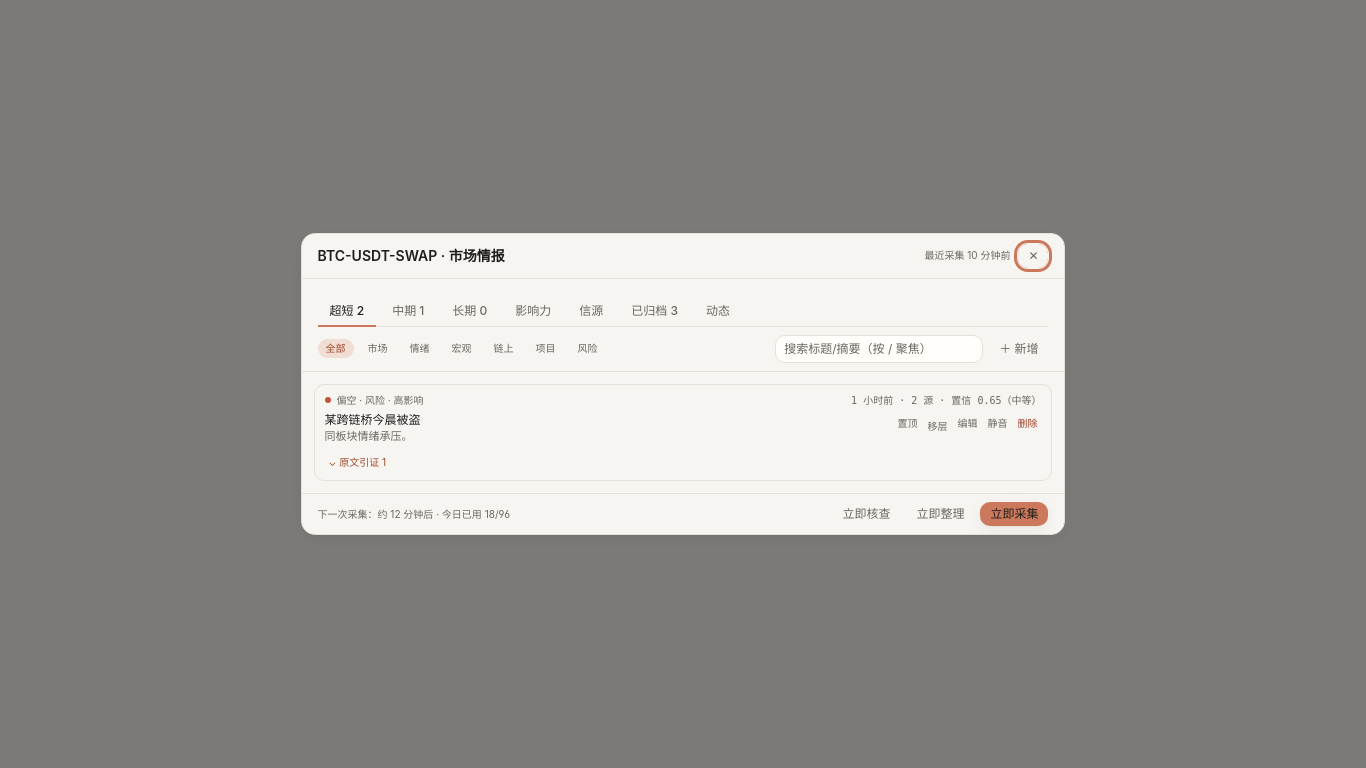
Test: IntelModal › 证据只在展开时取一次；收起再展开**不重发**
Check: the element with test id "intel-list" is shown, box [302, 372, 1064, 493]
Click the button with test id "intel-evidence-trigger".
click(357, 463)  # box [324, 453, 390, 472]
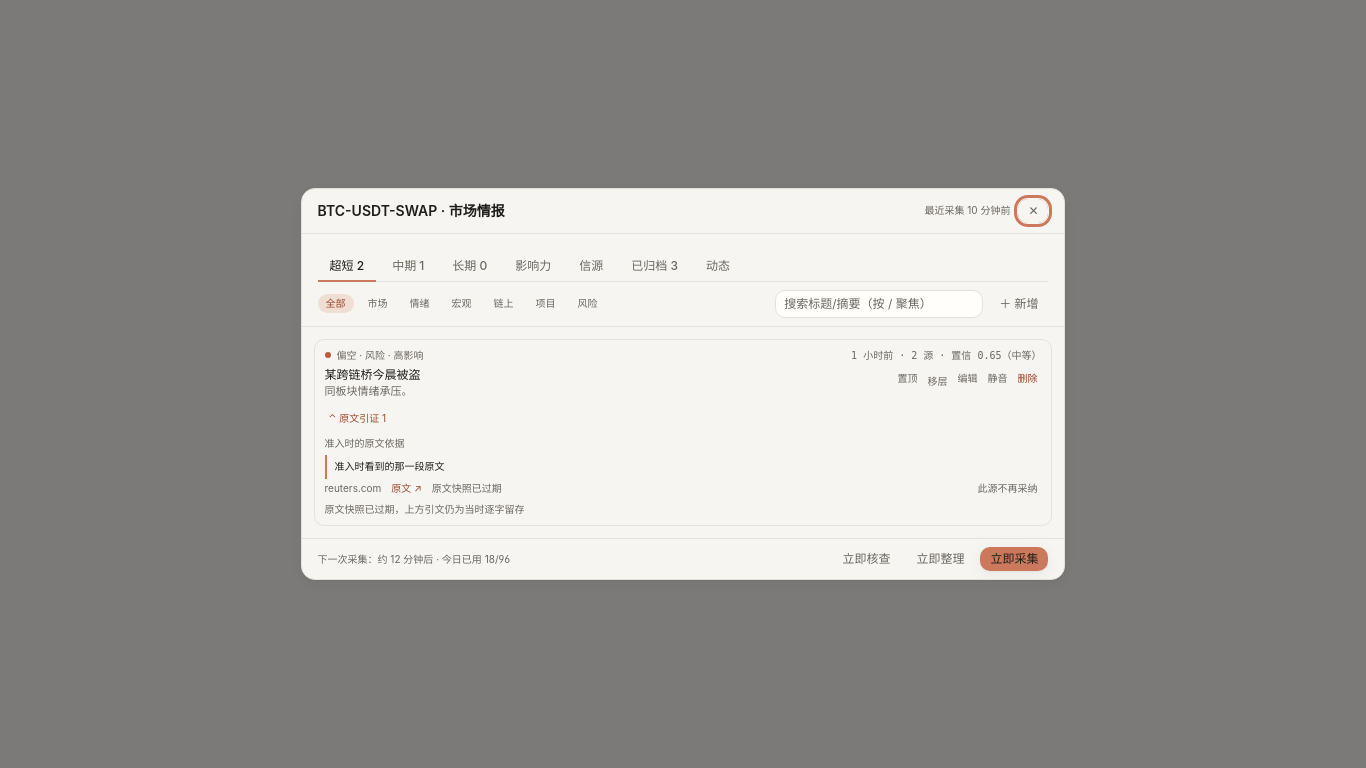
Check: the text "准入时看到的那一段原文" is shown, box [324, 455, 1042, 479]
Click the button with test id "intel-evidence-trigger".
click(357, 418)  # box [324, 409, 390, 428]
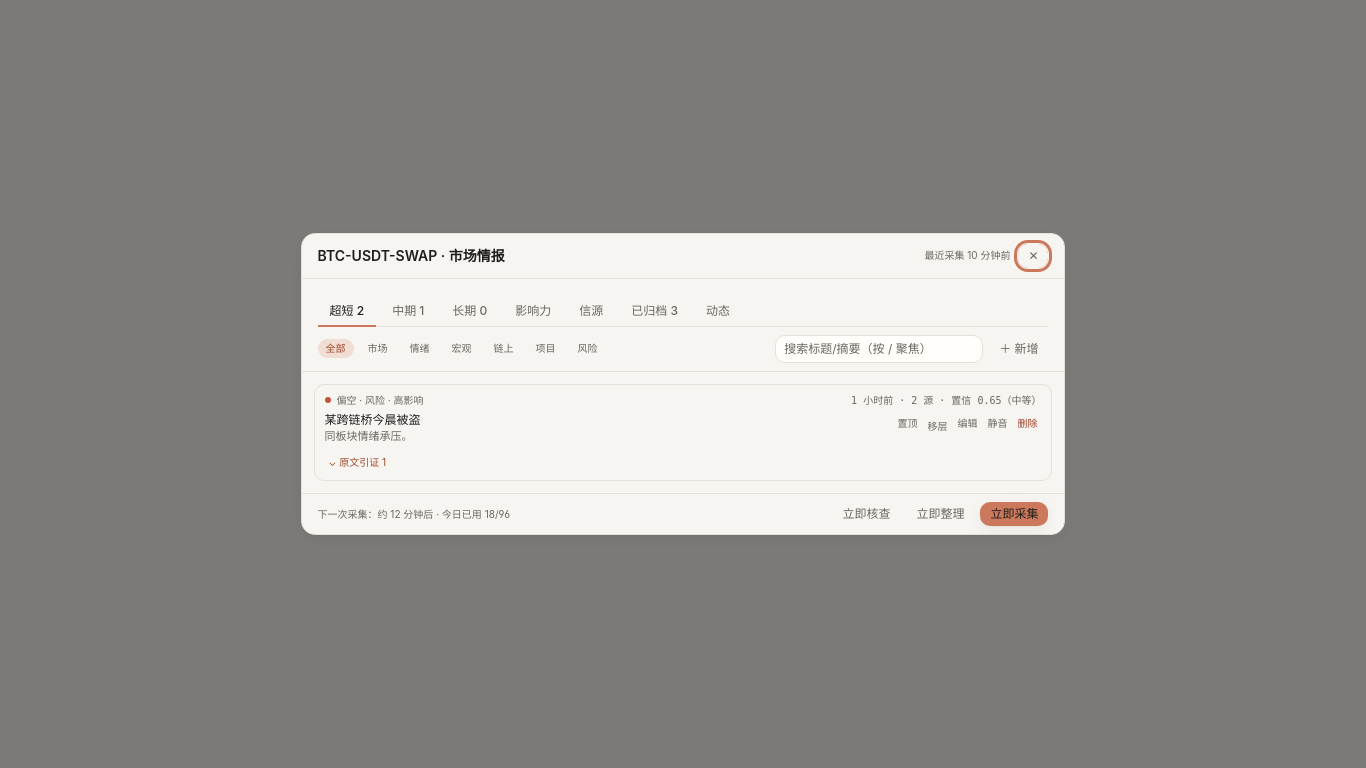
Click the button with test id "intel-evidence-trigger".
click(357, 463)  # box [324, 453, 390, 472]
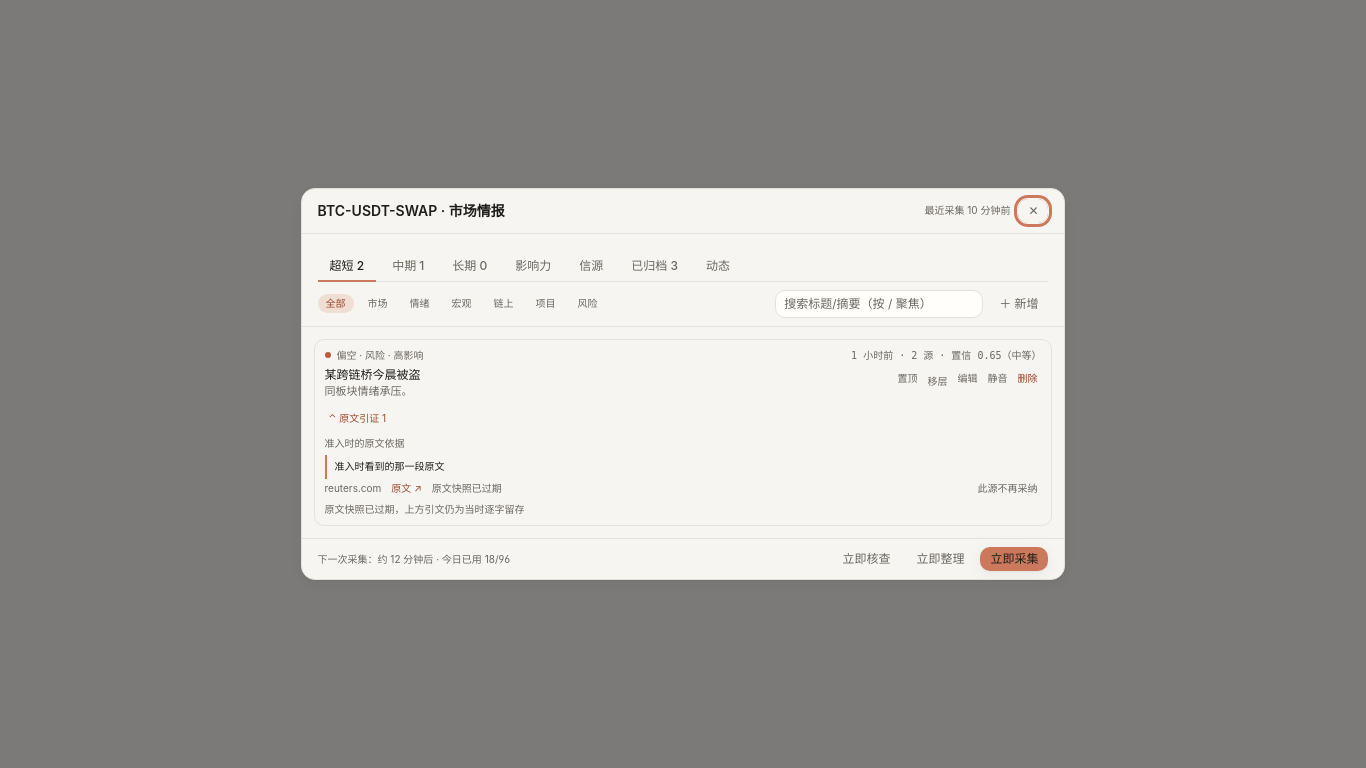
Check: the text "准入时看到的那一段原文" is shown, box [324, 455, 1042, 479]
